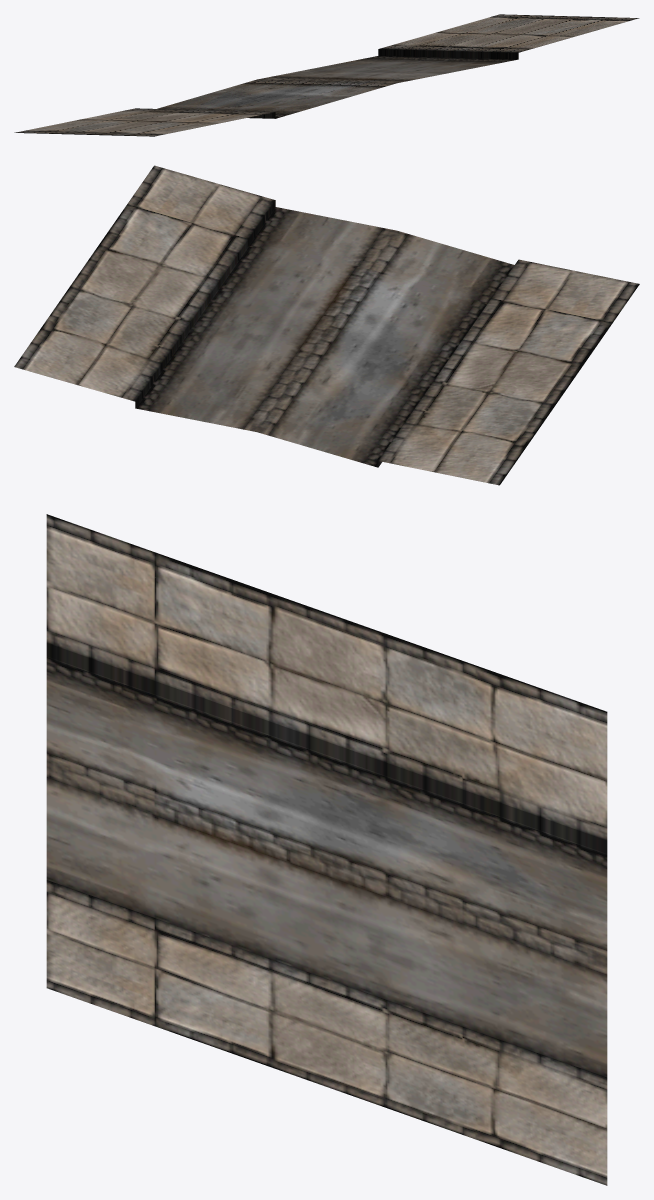
Rendered from street_Straße_Gerade2Schräg_19.glb.
3 views of the same model, one above another, from view 1: azimuth 30°, elevation 25°; view 2: azimuth 150°, elevation 25°; view 3: azimuth 270°, elevation 25° (orthographic). The views are drawn at different scales.
Visible parts, largest first — view 1: pPlaneShape171; view 2: pPlaneShape171; view 3: pPlaneShape171.
Part boxes in pixels (<box>): pPlaneShape171: <box>14,14,639,136</box>; pPlaneShape171: <box>14,165,639,485</box>; pPlaneShape171: <box>46,514,607,1185</box>.
Size of the model in its own units: 2 by 0.4358 by 1.
1 material, 1 textured.
